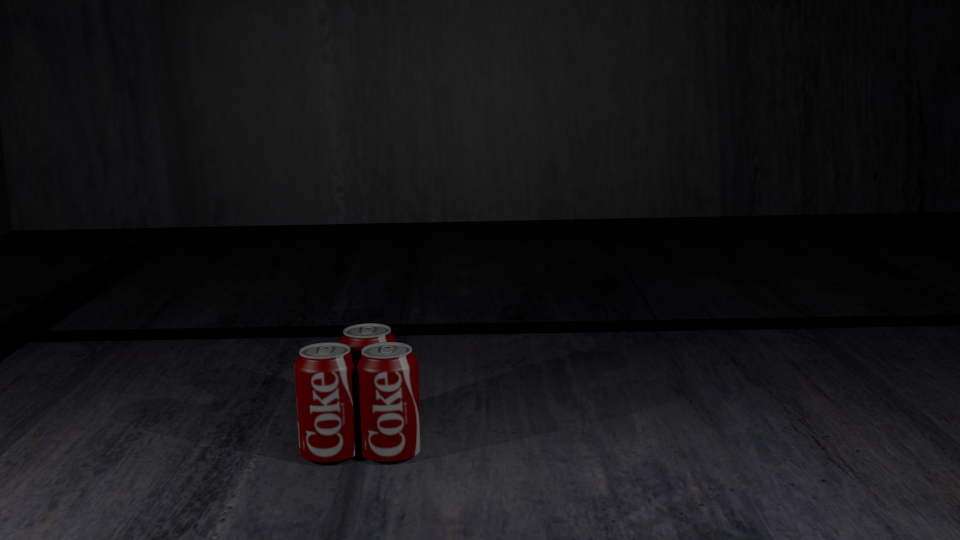cola_can: (294, 343, 358, 459), (357, 342, 419, 458), (339, 324, 396, 433)
